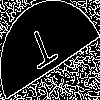T: (25, 24, 62, 79)
